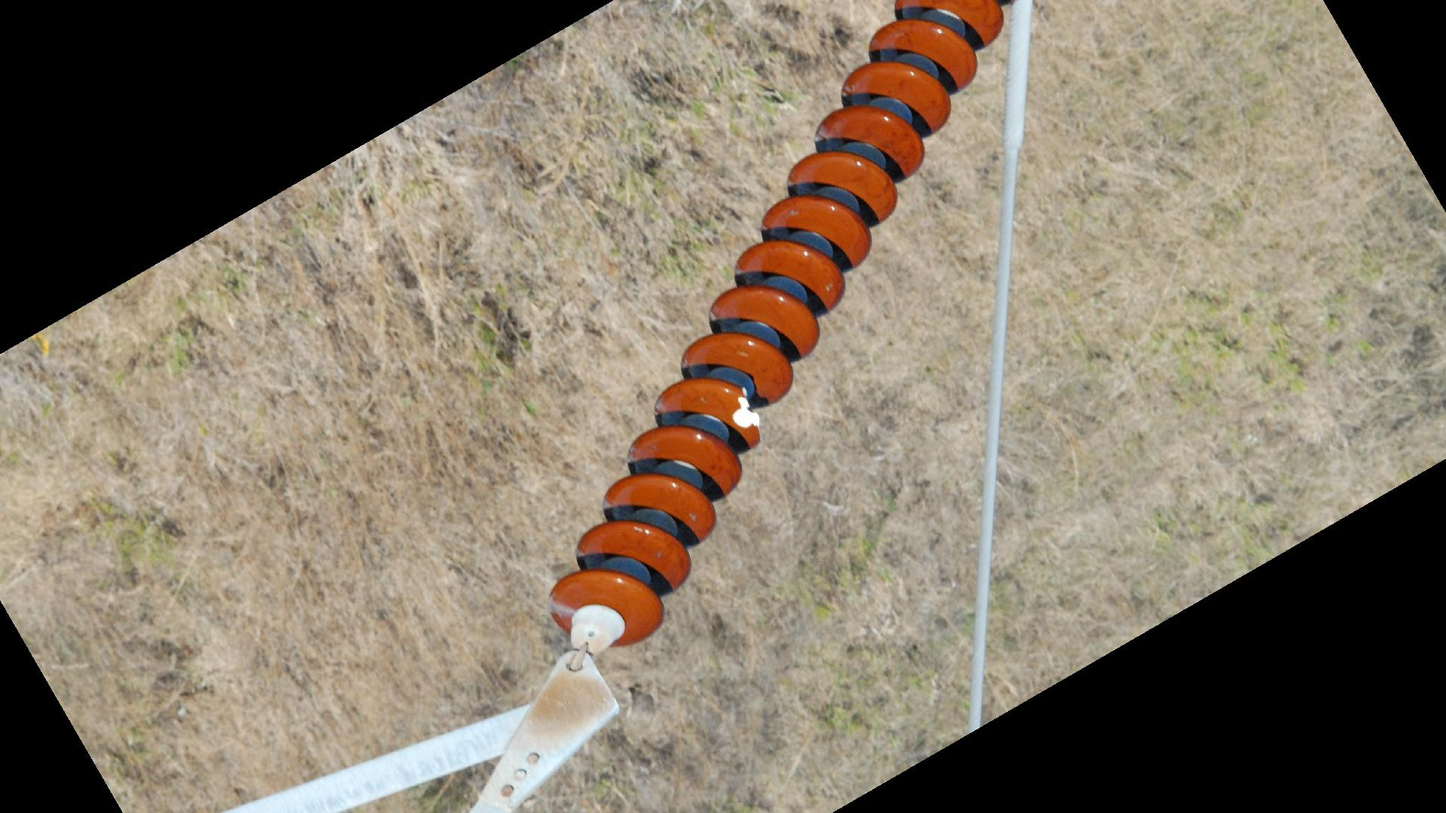insulator: (542, 1, 1011, 652)
insulator_breakage: (728, 384, 767, 444)
